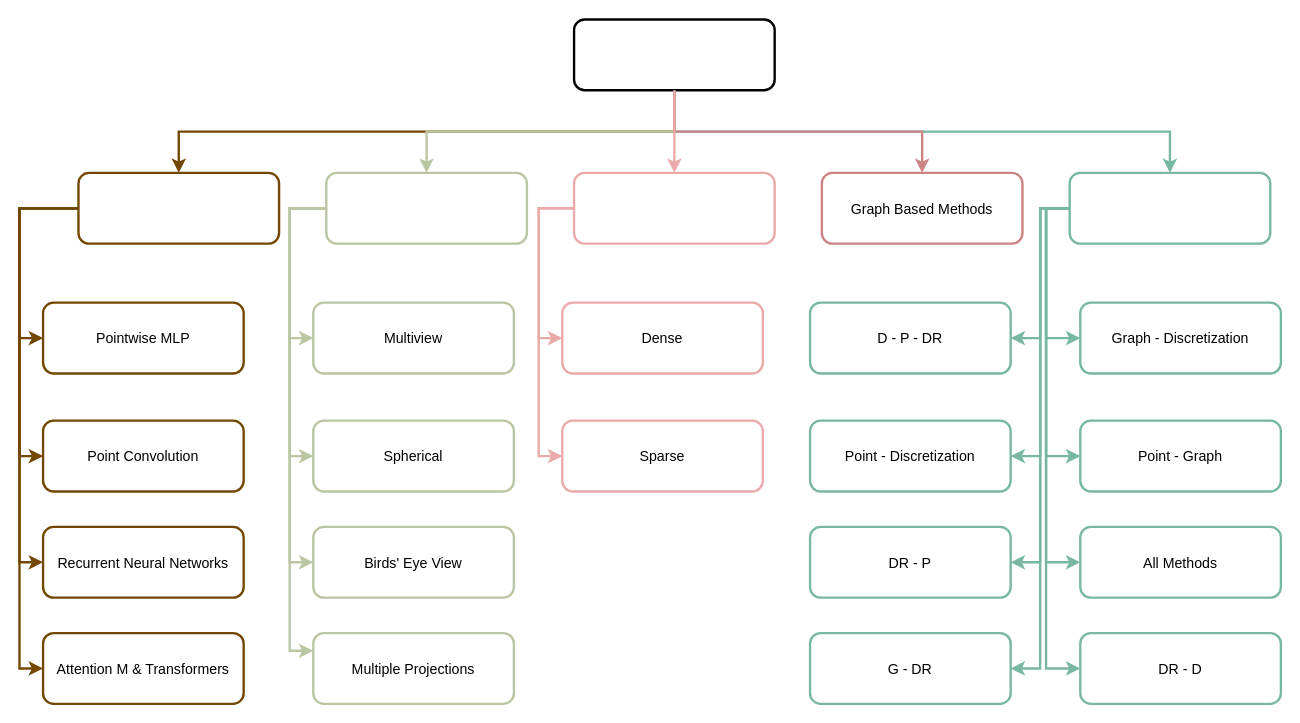
The diagram is 1300 pixels wide and 723 high, and some of its shapes have lost their labels. The centre of each missing label's shape, as x and y in pixels:
"3D Semantic Segmentation" goes at (x=673, y=54).
"Dimensionality Reduction Based Methods" goes at (x=425, y=207).
"Discetization Based Methods" goes at (x=673, y=207).
"Hybrid Based Methods" goes at (x=1169, y=207).
"Point Based Methods" goes at (x=178, y=207).
